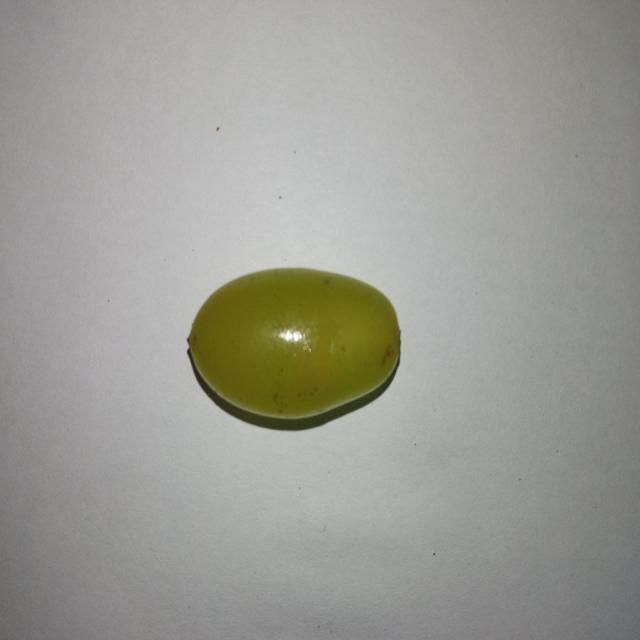fresh_grape: (186, 264, 398, 421)
